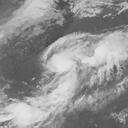cyclone: (43, 29, 120, 97)
